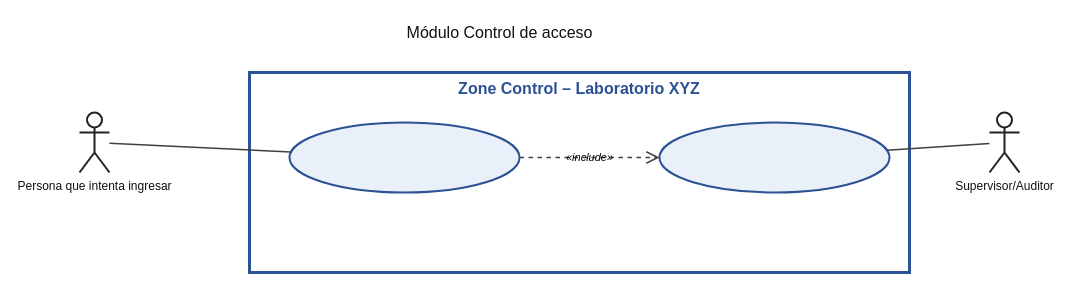
The diagram is 1071 pixels wide and 291 high, and some of its shapes have lost their labels. The centre of each missing label's shape, as x and y in pixels:
"Registrar intento de ingreso" goes at pixel 774 157.
"Simular lectura de credenciales" goes at pixel 404 157.
